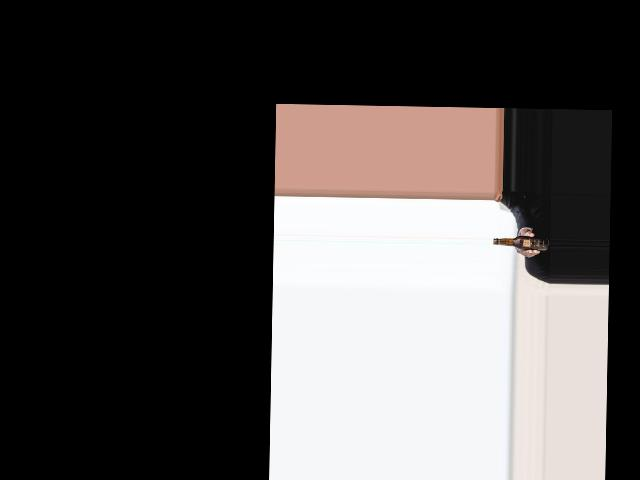beer: (493, 235, 549, 251)
